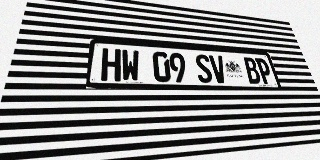0: (152, 51, 171, 82)
9: (169, 52, 188, 83)
B: (242, 57, 262, 84)
H: (101, 48, 121, 81)
P: (255, 58, 274, 84)
S: (194, 54, 214, 83)
V: (209, 55, 228, 83)
W: (121, 49, 140, 82)
